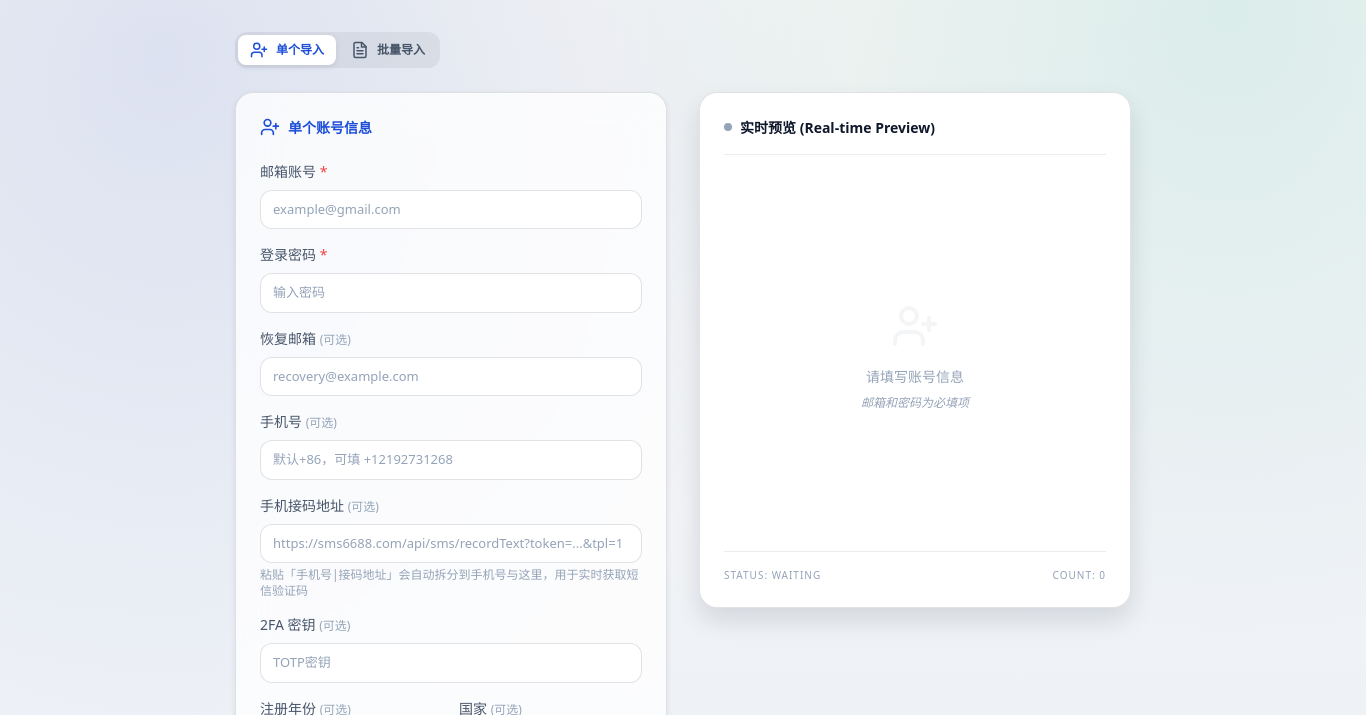
Test: ImportView 组件 › 单个导入模式 › 填写必填项后导入按钮启用
Type "test@gmail.com" into the field with placeholder "example@gmail.com".
click(451, 209); type("test@gmail.com")  # box [260,190,642,229]
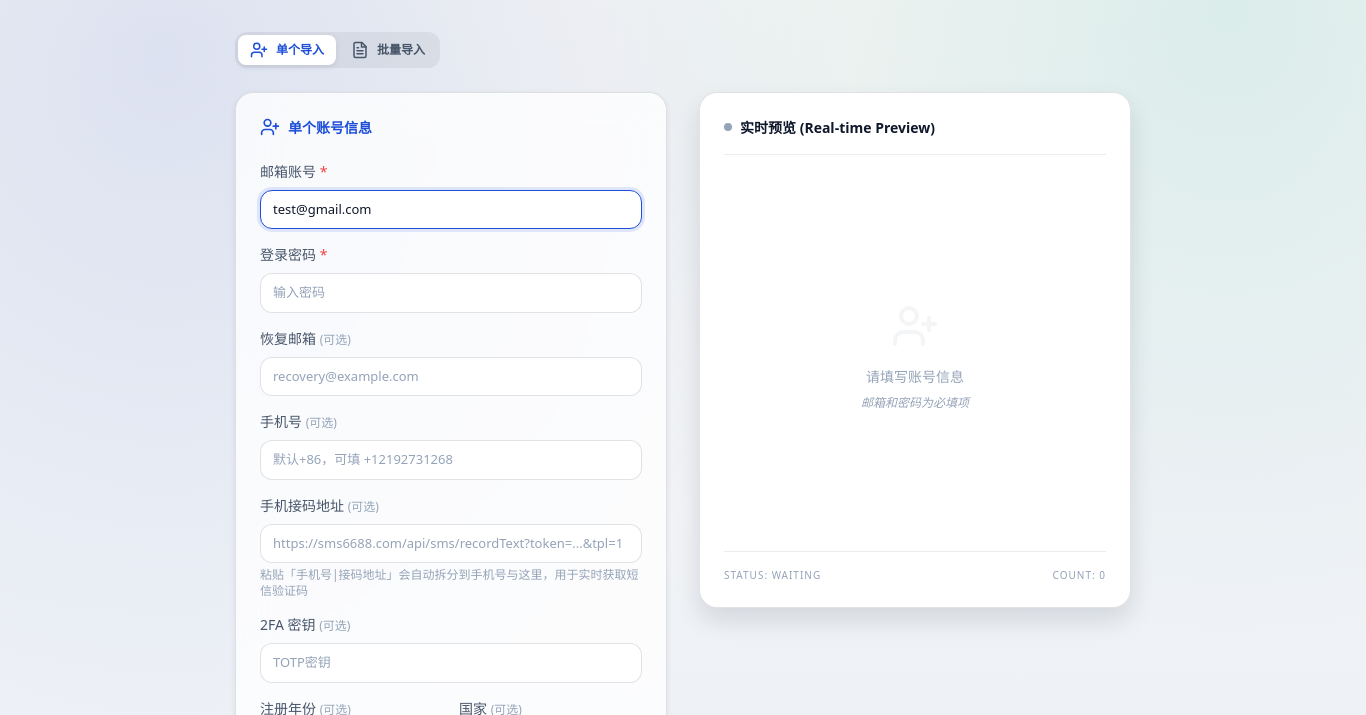
Type "password123" into the field with placeholder "输入密码".
click(451, 293); type("password123")  # box [260,273,642,312]
(page scrolled)
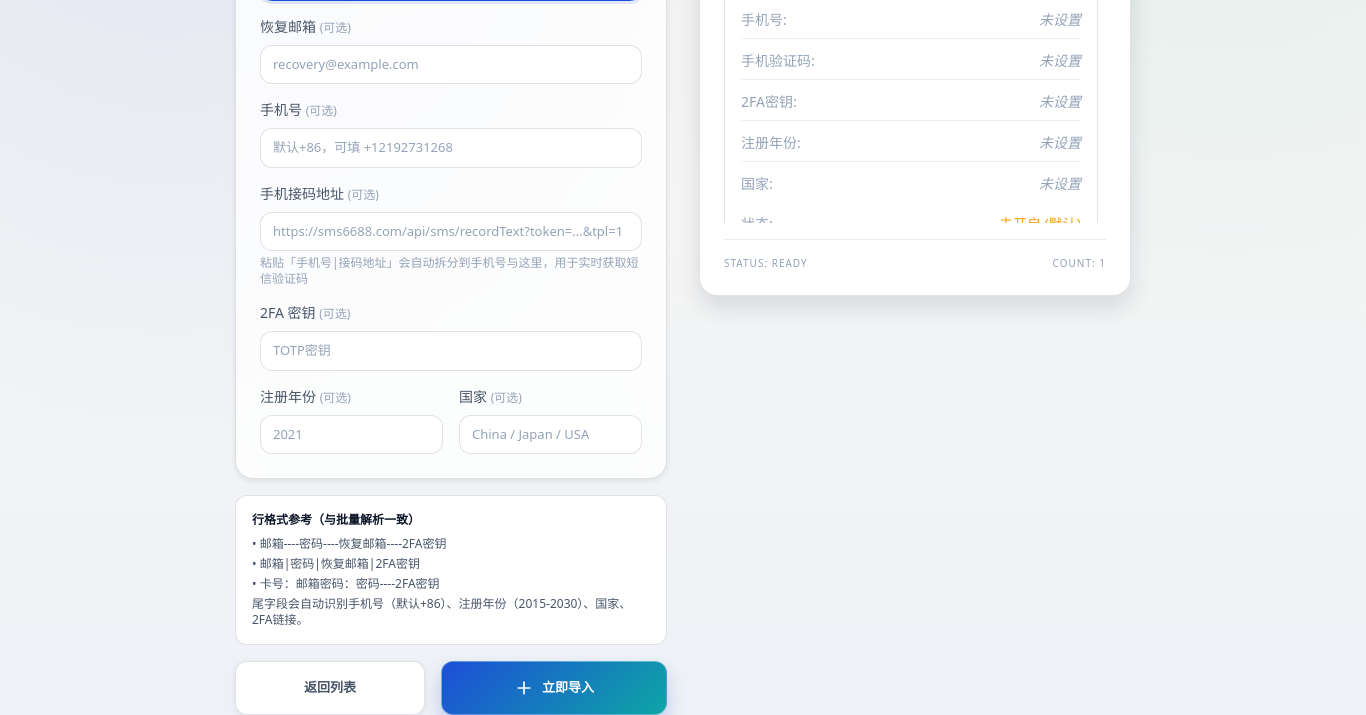
Now the button "立即导入" is enabled, box [441,661,667,714]
